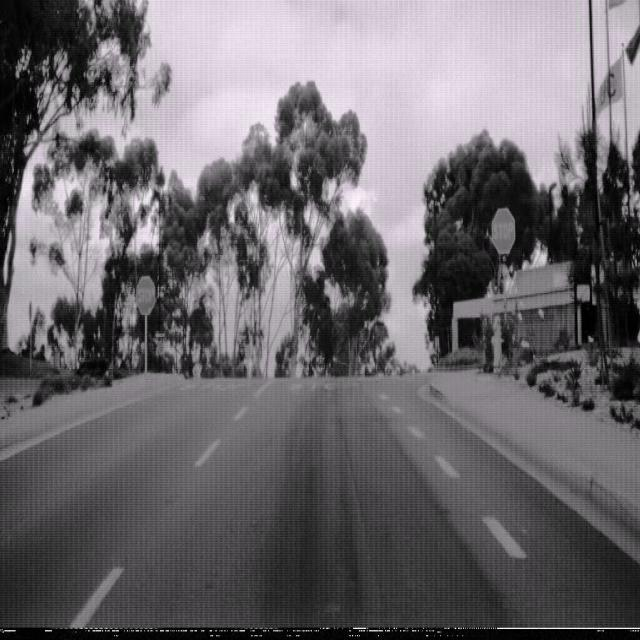stop_sign: (490, 206, 516, 256), (135, 275, 156, 316)
